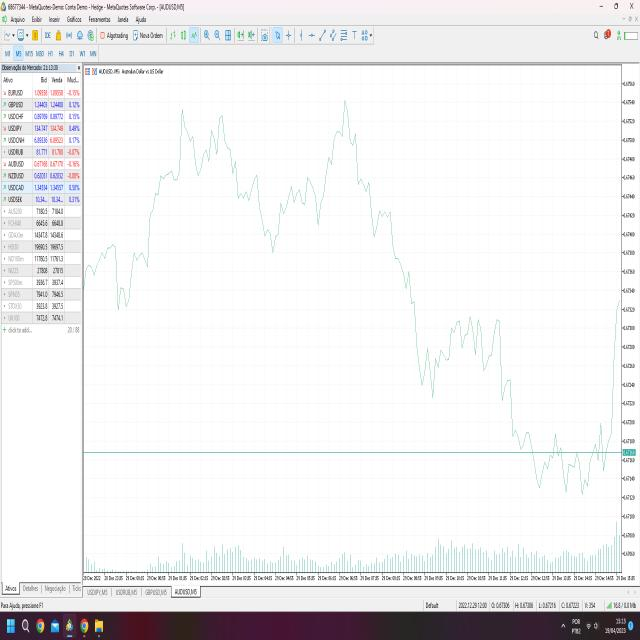fundo_duplo: (254, 152, 288, 265)
oco: (319, 80, 374, 236)
